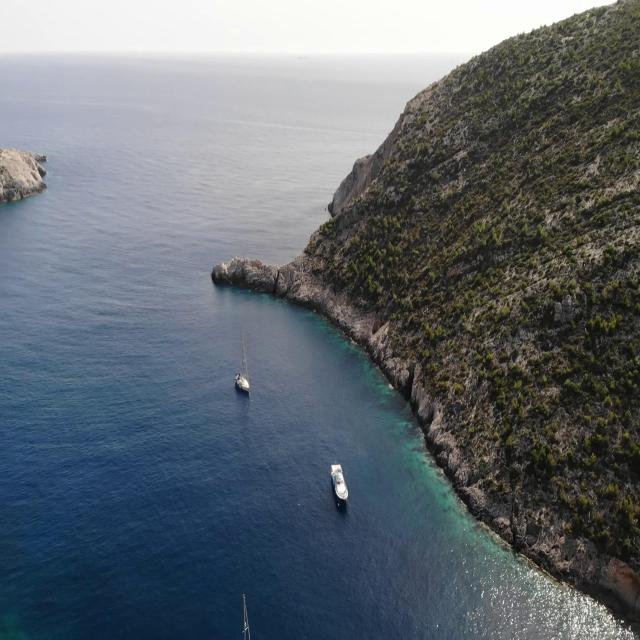boat: (329, 460, 348, 504)
sailboat: (233, 324, 250, 398)
